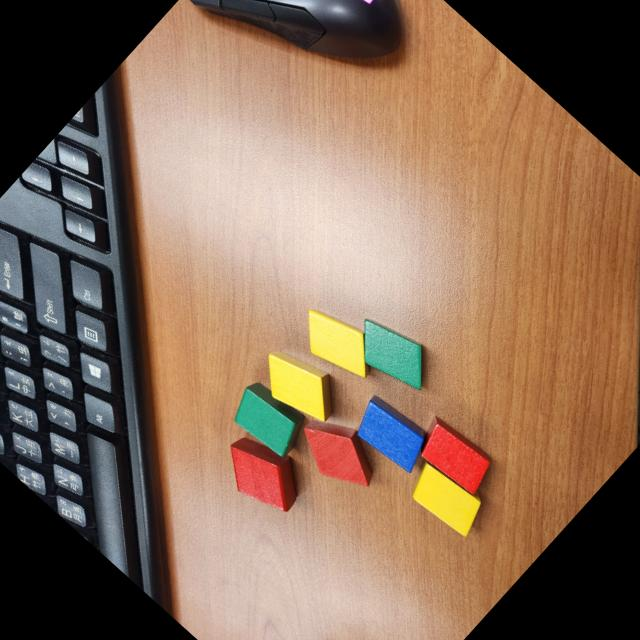blue: (344, 388, 438, 480)
green: (340, 303, 444, 405), (222, 373, 314, 464)
red: (208, 420, 316, 526), (286, 402, 390, 504), (408, 410, 500, 500)
yellow: (248, 334, 350, 435), (287, 294, 388, 392), (401, 454, 494, 544)
